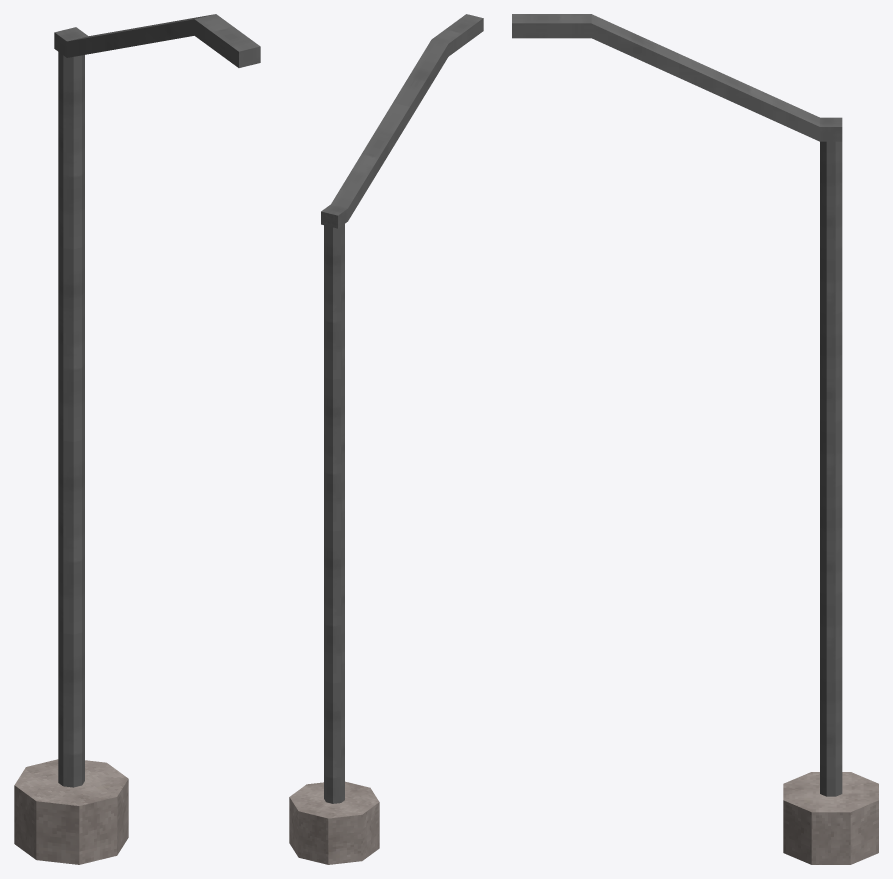
The model's file is streetlight.glb.
3 views of the same model, side by side, from view 1: azimuth 30°, elevation 25°; view 2: azimuth 150°, elevation 25°; view 3: azimuth 270°, elevation 25° (orthographic). The views are drawn at different scales.
Visible parts, largest first — view 1: streetlight; view 2: streetlight; view 3: streetlight.
Part boxes in pixels (box(x1,y1,x2,y2)): streetlight: box(14, 14, 260, 864); streetlight: box(289, 14, 483, 864); streetlight: box(512, 14, 878, 864).
Size of the model in its own units: 0.7338 by 7 by 2.82.
Materials: 3 (3 with a texture image).
